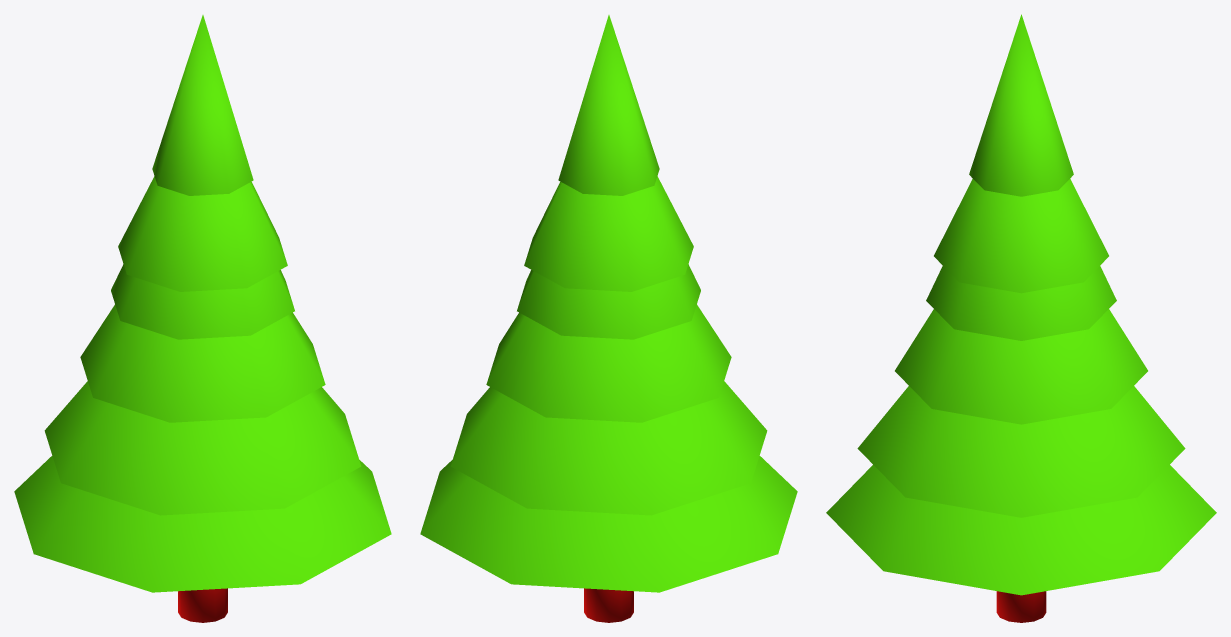
The model's file is PineTree.fbx.
3 views of the same model, side by side, from view 1: azimuth 30°, elevation 25°; view 2: azimuth 150°, elevation 25°; view 3: azimuth 270°, elevation 25° (orthographic).
Parts seen in each view (by area): view 1: Cone.001; view 2: Cone.001; view 3: Cone.001.
Part boxes in pixels (x1=…): Cone.001: x1=14, y1=15, x2=391, y2=622; Cone.001: x1=420, y1=15, x2=797, y2=622; Cone.001: x1=826, y1=14, x2=1216, y2=622.
Bounding box in the file's own units: 7.45 × 12.58 × 7.45.
